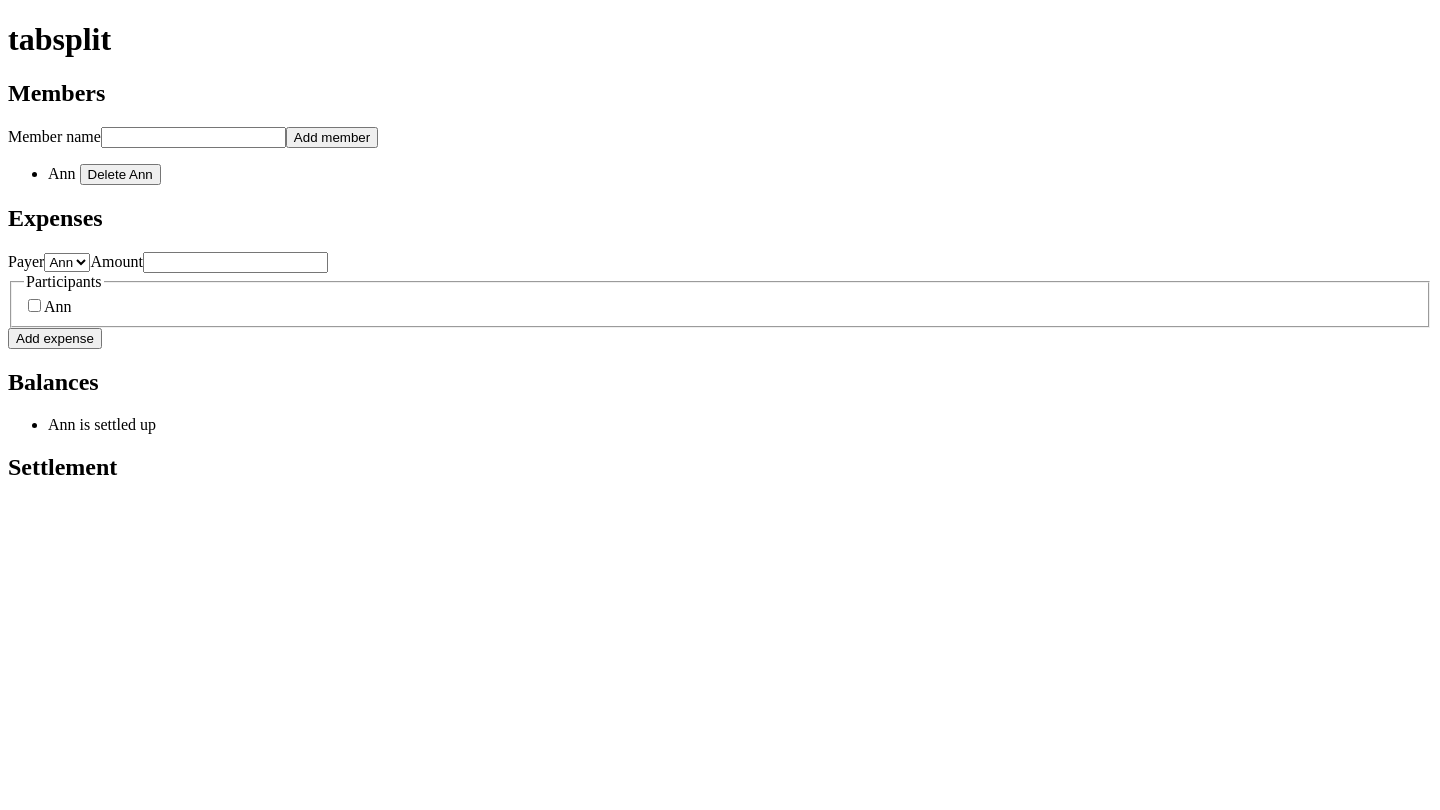
App › blocks deleting a member an expense references
The image size is (1440, 810).
Earlier steps of the test are not shown.
Step 1. Type "Bob" into the field labelled "Member name" → coordinates (193, 137), box [101, 127, 286, 148]
Step 2. Click the button "Add member" → coordinates (332, 137), box [286, 127, 378, 148]
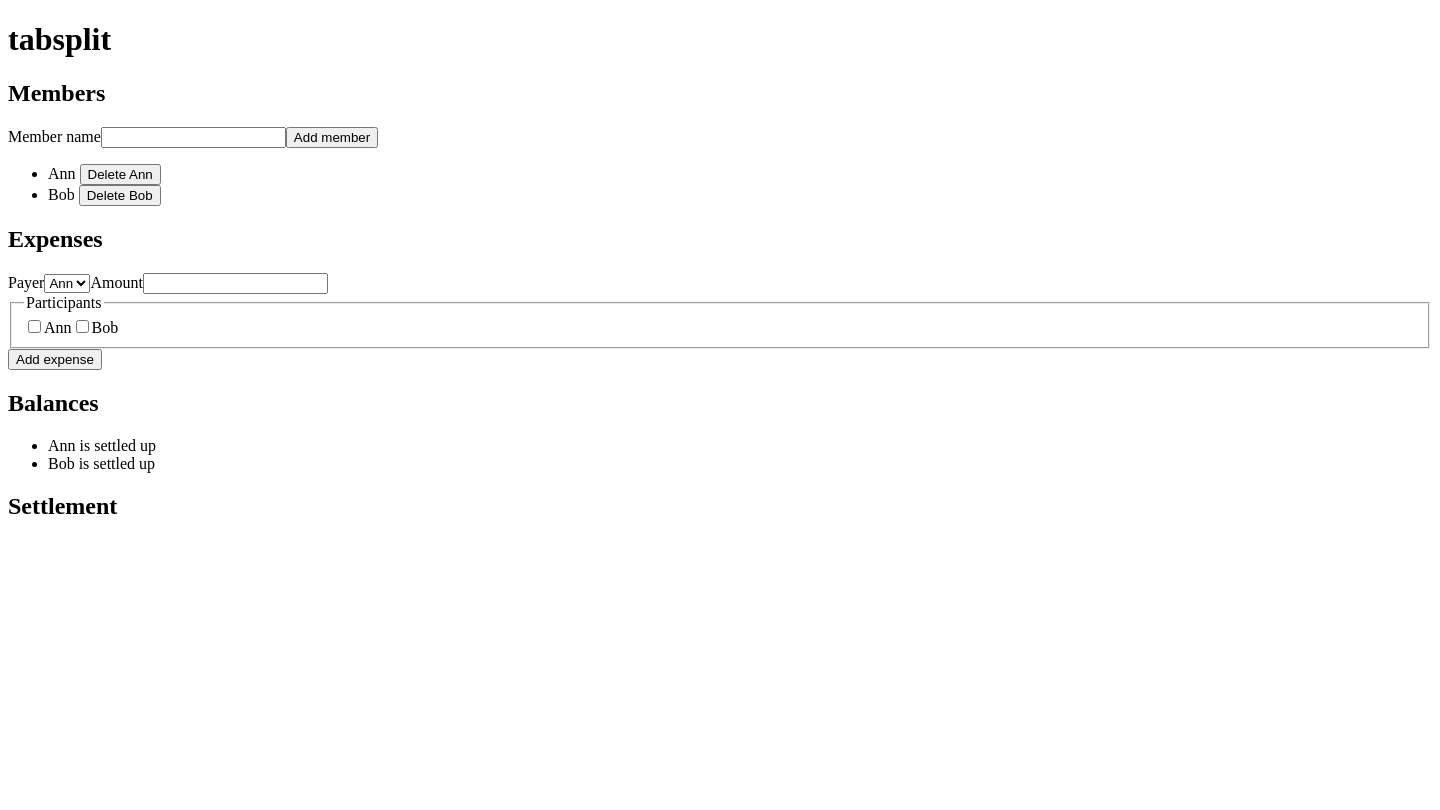
Step 3. Select "Ann" in the dropdown labelled "Payer" → coordinates (67, 283), box [44, 274, 90, 293]
Step 4. Type "10" into the field labelled "Amount" → coordinates (235, 283), box [143, 273, 328, 294]
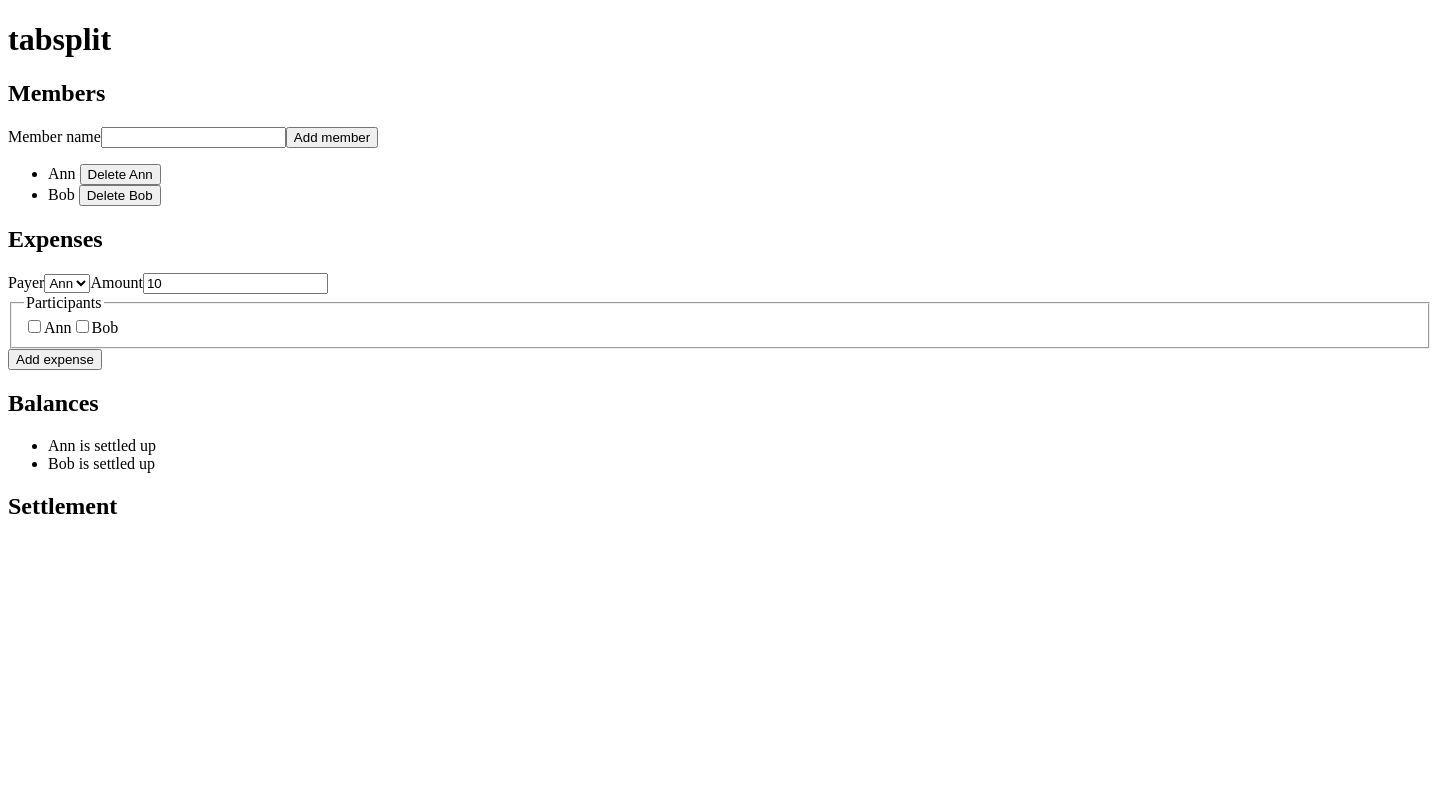
Step 5. Click the checkbox labelled "Ann" → coordinates (34, 327), box [28, 320, 41, 333]
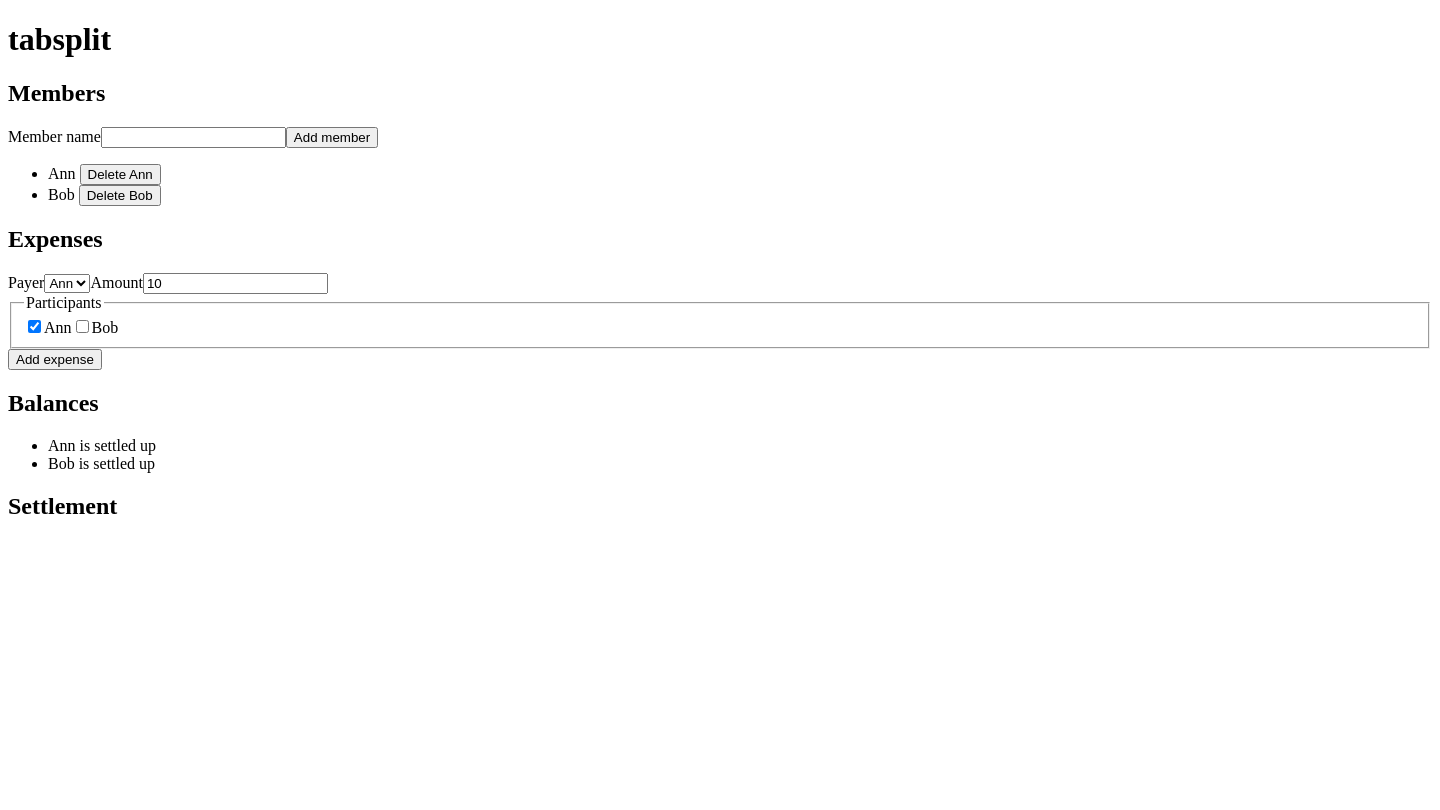
Step 6. Click the checkbox labelled "Bob" → coordinates (82, 327), box [76, 320, 89, 333]
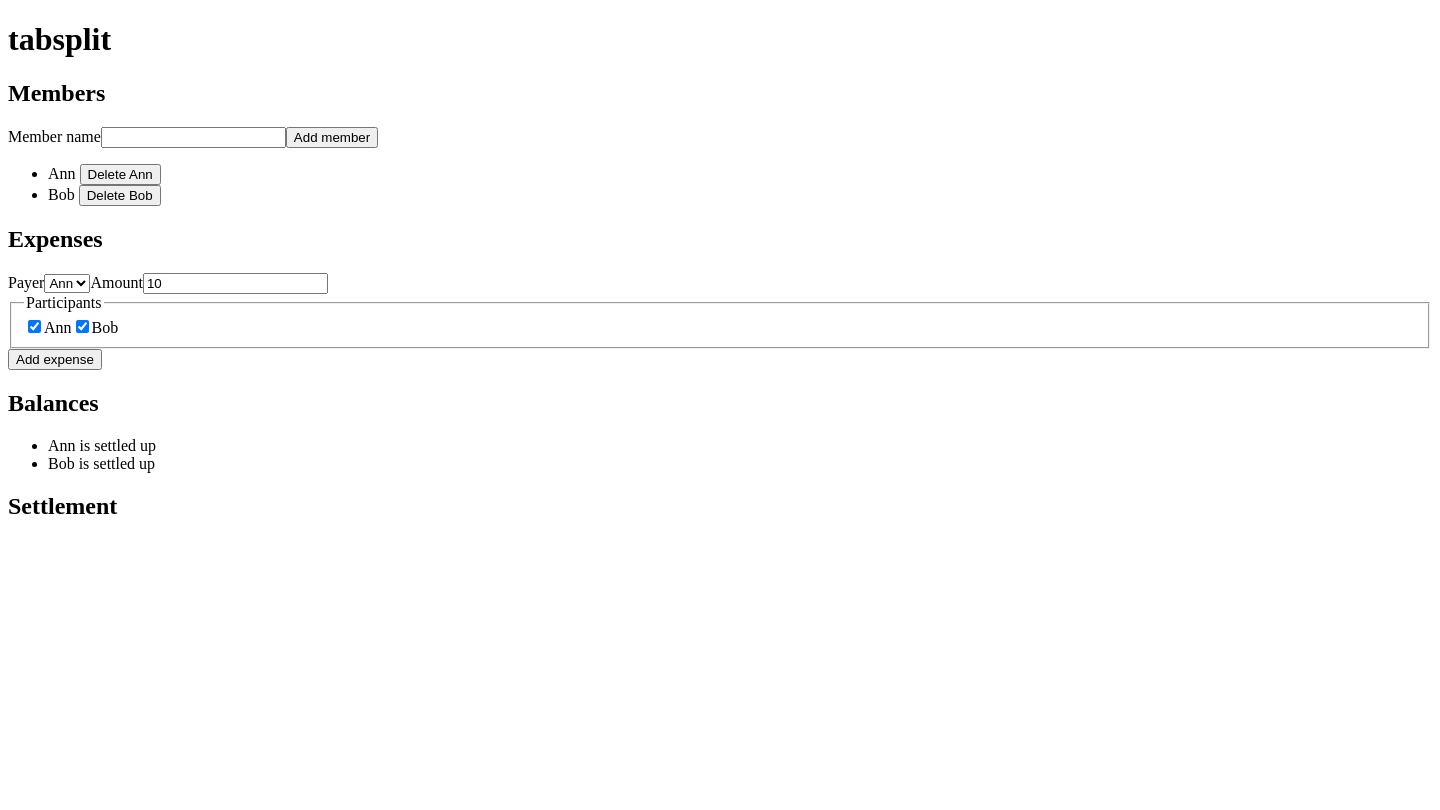
Step 7. Click the button "Add expense" → coordinates (55, 360), box [8, 349, 102, 370]
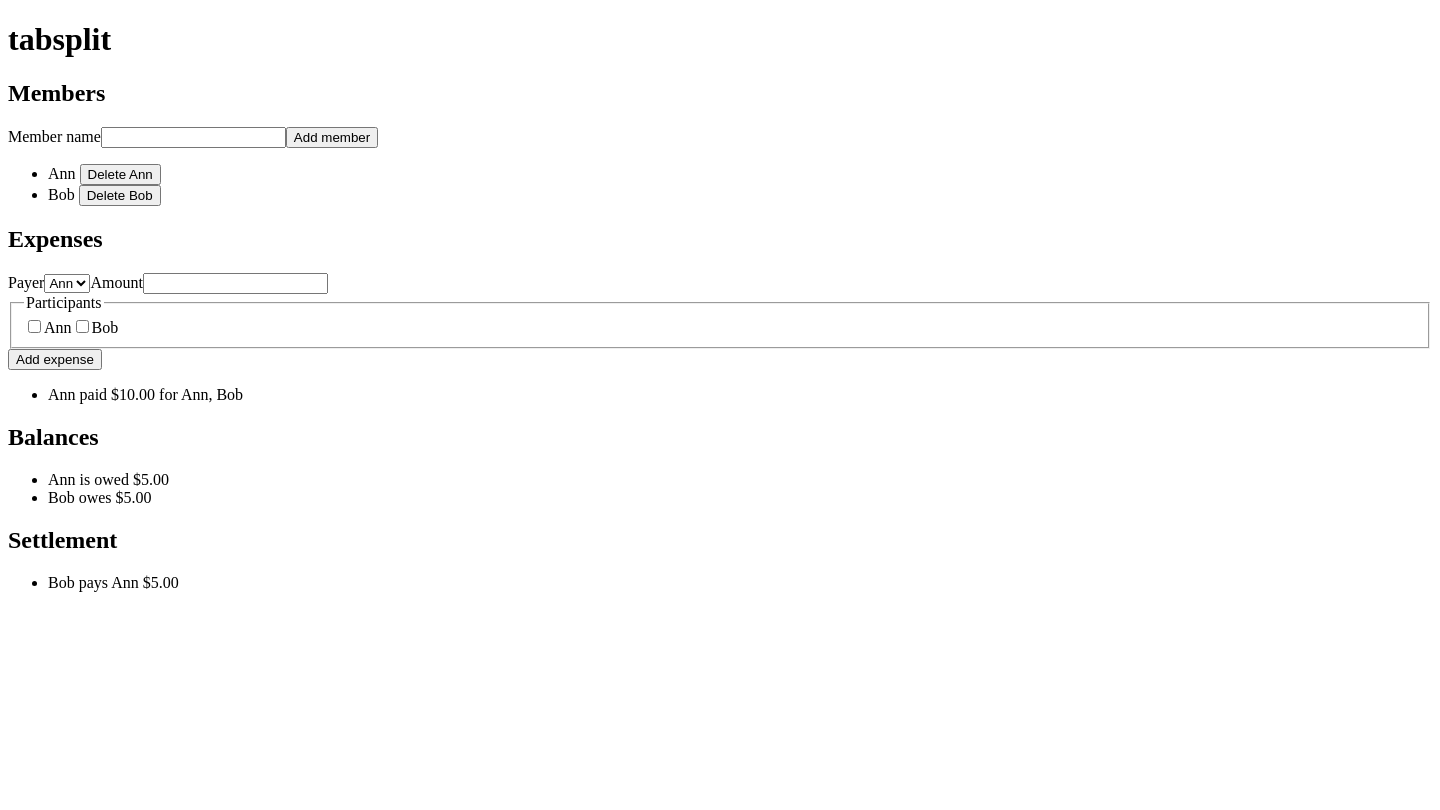
Step 8. Click the button "Delete Bob" → coordinates (120, 195), box [79, 185, 161, 206]
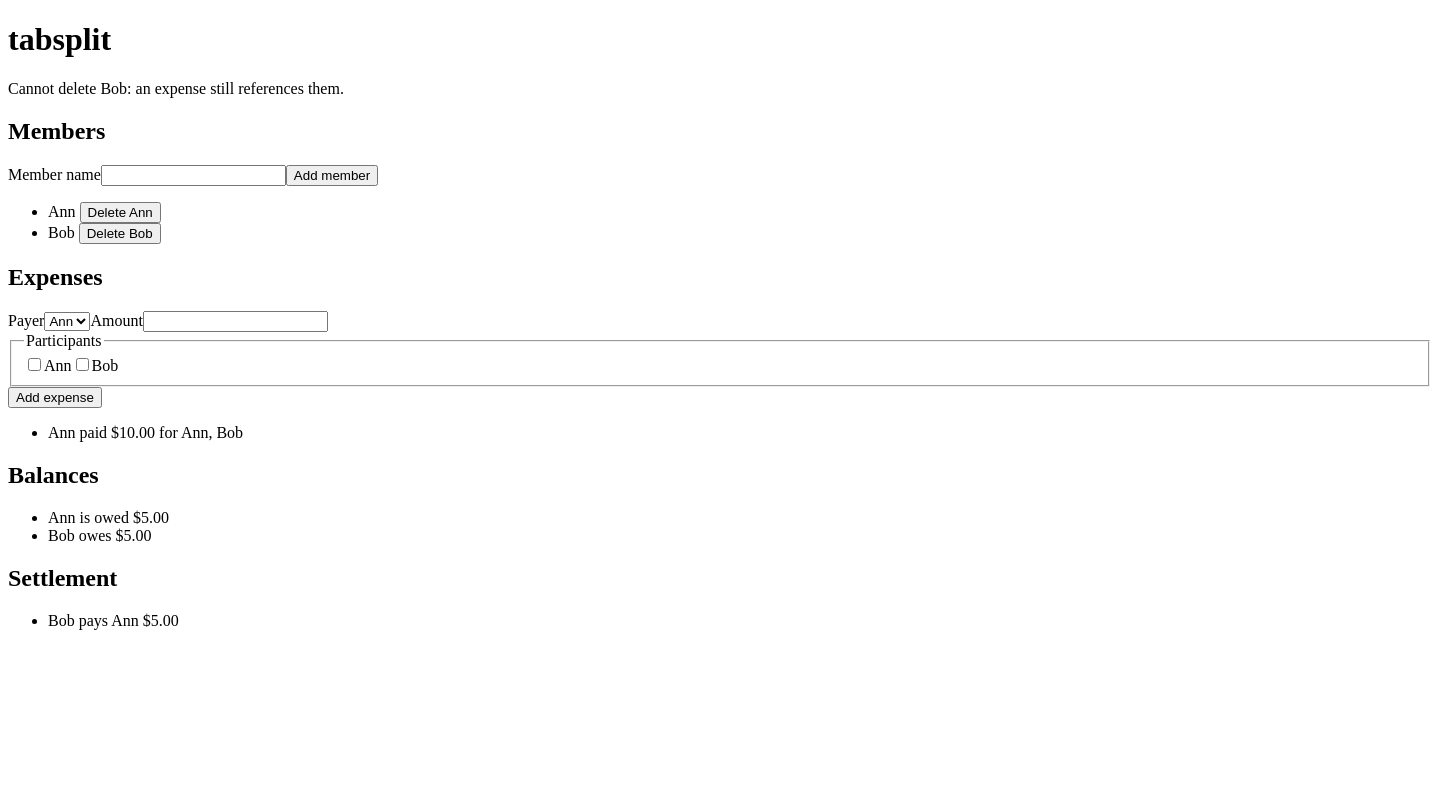
Check: the button "Delete Bob" is shown, box [79, 223, 161, 244]
Check: the message reads "Cannot delete Bob: an expense still references them.", box [8, 80, 344, 97]
